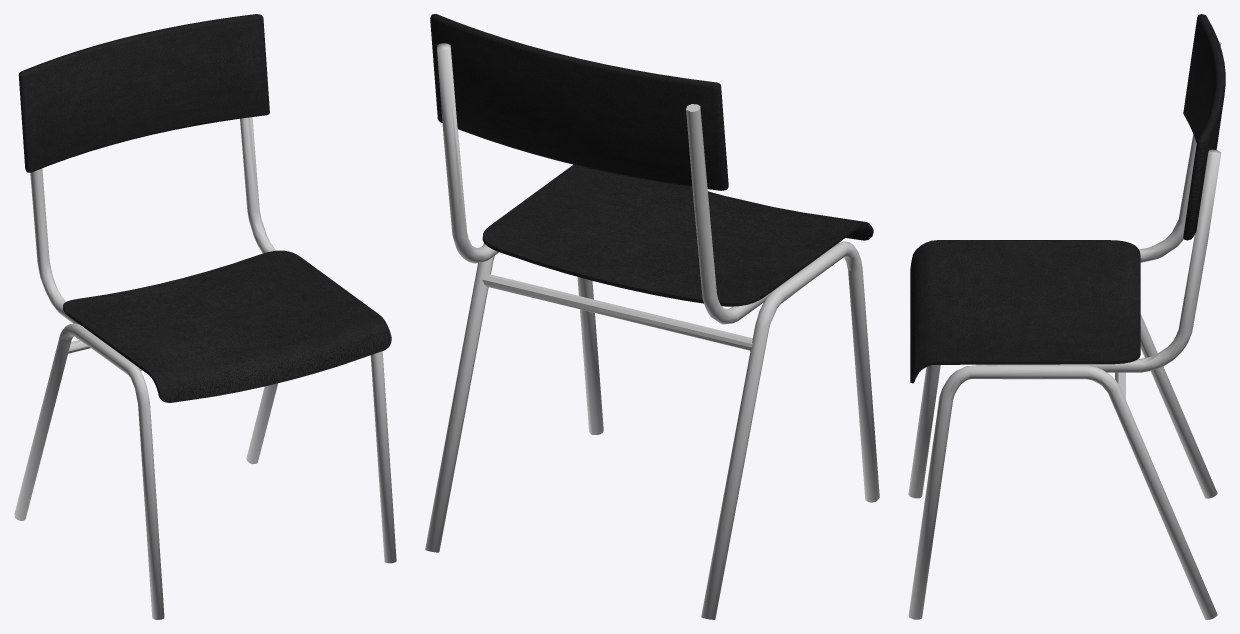
Rendered from Chair.FBX.
3 renders of one model, left to right at view 1: azimuth 30°, elevation 25°; view 2: azimuth 150°, elevation 25°; view 3: azimuth 270°, elevation 25°, orthographic. The views are drawn at different scales.
Visible parts, largest first — view 1: Chair; view 2: Chair; view 3: Chair.
Part boxes in pixels (x1=…): Chair: x1=14, y1=14, x2=396, y2=619; Chair: x1=425, y1=14, x2=879, y2=619; Chair: x1=908, y1=14, x2=1225, y2=619.
Size of the model in its own units: 53.42 by 94.3 by 56.24.
